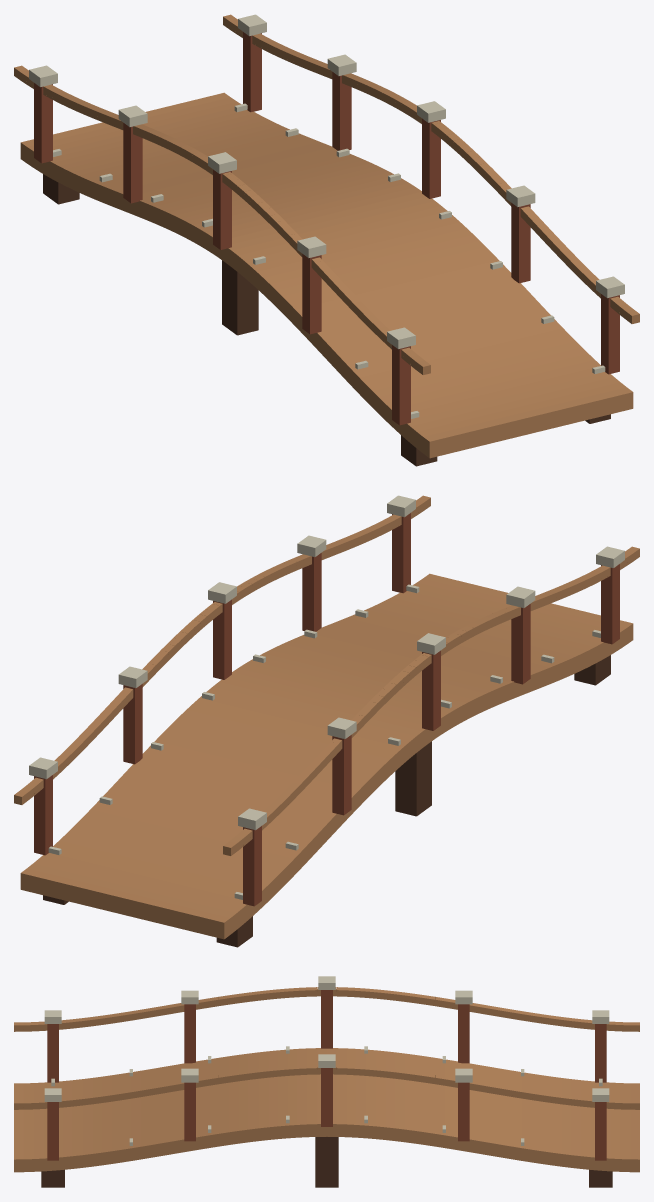
The model's file is Backyard_StreamBridge_Standard.glb.
3 views of the same model, one above another, from view 1: azimuth 30°, elevation 25°; view 2: azimuth 150°, elevation 25°; view 3: azimuth 270°, elevation 25° (orthographic). The views are drawn at different scales.
Visible parts, largest first — view 1: Backyard_StreamBridge_Standard; view 2: Backyard_StreamBridge_Standard; view 3: Backyard_StreamBridge_Standard.
Boxes of the visible parts, x1,y1,x2,y2 form: Backyard_StreamBridge_Standard: (14, 14, 639, 466); Backyard_StreamBridge_Standard: (14, 495, 639, 947); Backyard_StreamBridge_Standard: (14, 976, 639, 1187).
Size of the model in its own units: 2.56 by 1.87 by 8.
